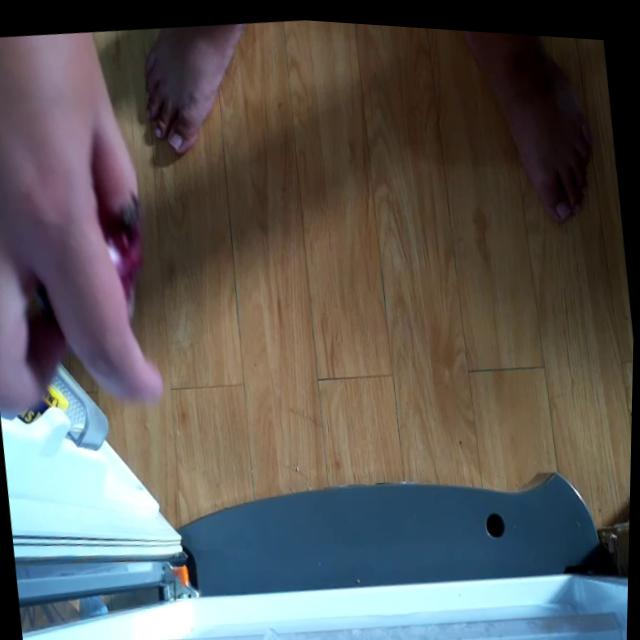onion: (86, 187, 165, 321)
